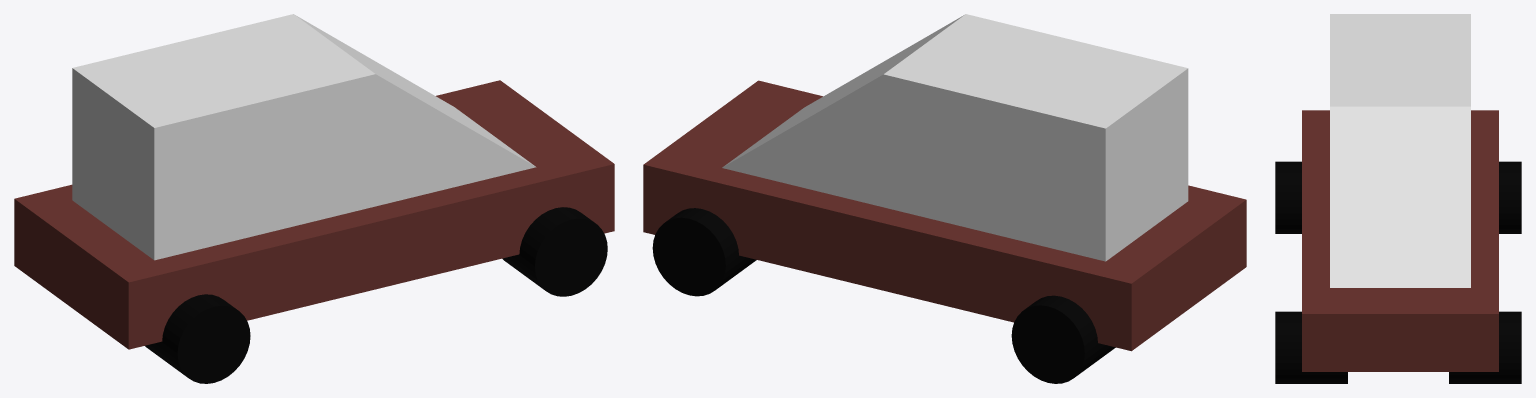
Rendered from toycar.glb.
The picture shows the model from 3 angles, left to right: view 1: azimuth 30°, elevation 25°; view 2: azimuth 150°, elevation 25°; view 3: azimuth 270°, elevation 25°; orthographic projection. The views are drawn at different scales.
Parts seen in each view (by area): view 1: Cube.001, Cube, Cylinder; view 2: Cube.001, Cube, Cylinder; view 3: Cube.001, Cube, Cylinder.
Part boxes in pixels (<box>): Cube.001: <box>72,14,536,260</box>; Cube: <box>14,80,614,349</box>; Cylinder: <box>145,207,607,383</box>; Cube.001: <box>722,14,1188,261</box>; Cube: <box>643,80,1246,351</box>; Cylinder: <box>652,208,1115,383</box>; Cube.001: <box>1330,14,1470,287</box>; Cube: <box>1302,110,1498,371</box>; Cylinder: <box>1275,161,1521,383</box>.
Bounding box in the file's own units: 2.85 × 1.33 × 1.45.
